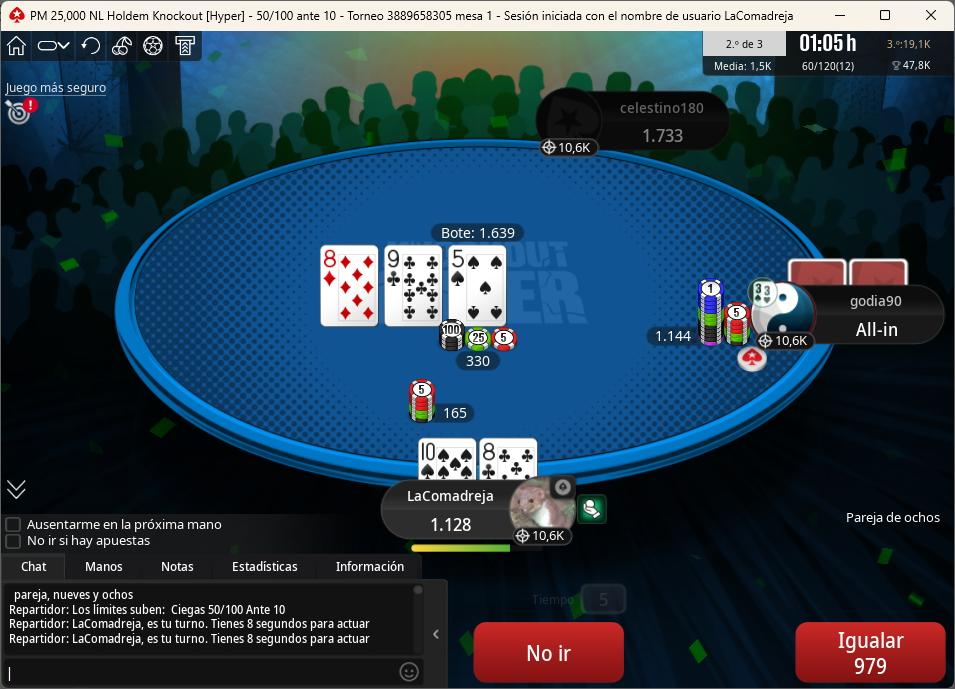ButtonCall: (789, 618, 952, 687)
ButtonFold: (469, 621, 633, 684)
HiddenCards: (785, 259, 916, 285)
Player: (745, 283, 949, 350), (542, 90, 730, 155)
PlayerBet: (641, 285, 755, 353)
PlayerChips: (848, 322, 907, 342), (634, 126, 695, 144)
Pot: (427, 224, 529, 243)
PrincipalCards: (415, 438, 544, 484)
PrincipalCards1: (415, 436, 478, 482)
PrincipalCards2: (480, 436, 542, 482)
PrincipalPlayer: (386, 478, 594, 554)
PrincipalPlayerChips: (420, 517, 482, 537)
ShowedCards: (316, 243, 512, 333)
ShowedCards1: (319, 246, 384, 331)
ShowedCards2: (384, 246, 446, 329)
ShowedCards3: (447, 247, 510, 329)
SmallBigBlind: (244, 4, 344, 26)
TablePot: (435, 325, 532, 380)
